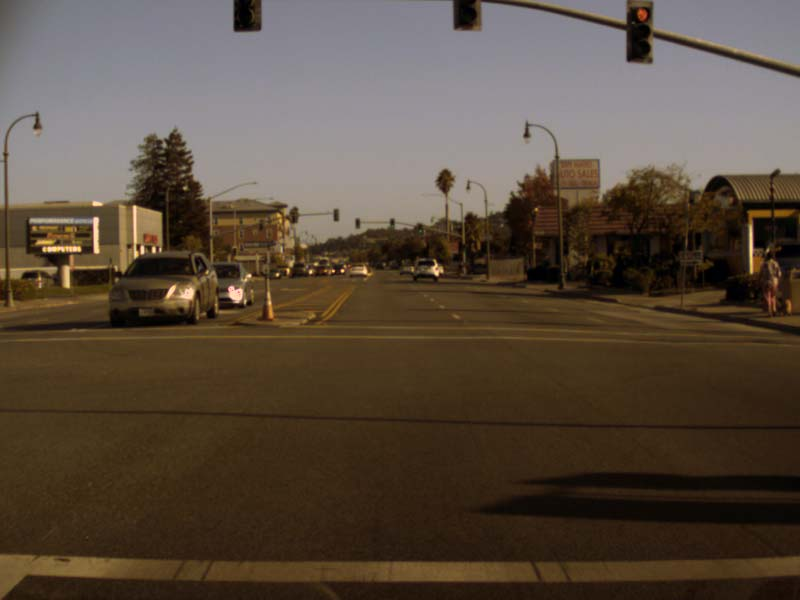Green: (389, 218, 395, 229), (355, 218, 360, 229), (417, 224, 422, 234), (462, 243, 467, 251)
